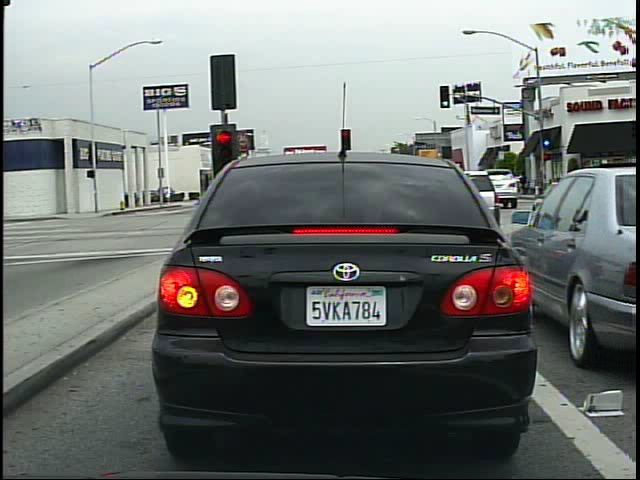person: (519, 170, 530, 196), (164, 184, 174, 208)
